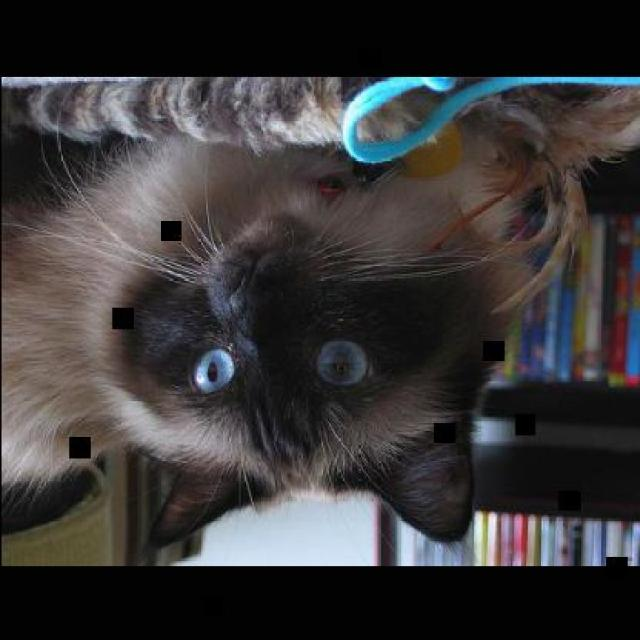unauthorized: (0, 75, 638, 549)
